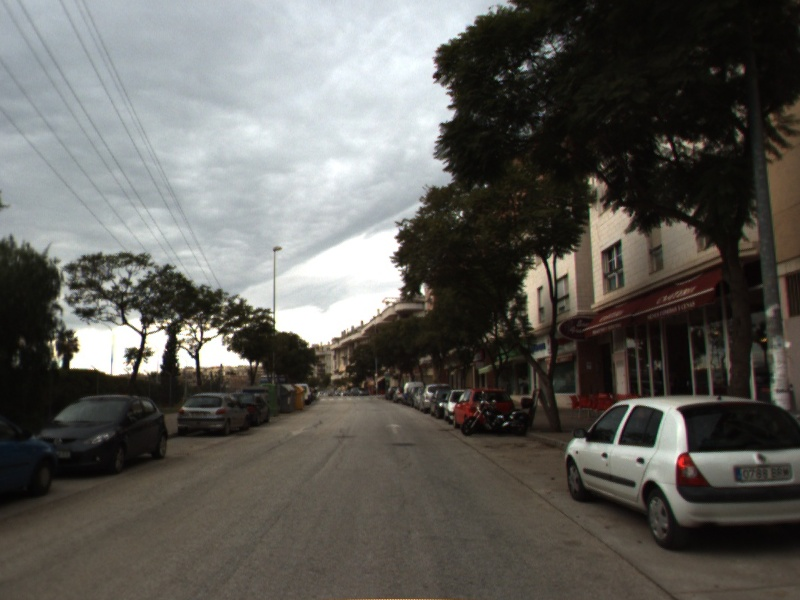STRAIGHT: (382, 421, 405, 437)
